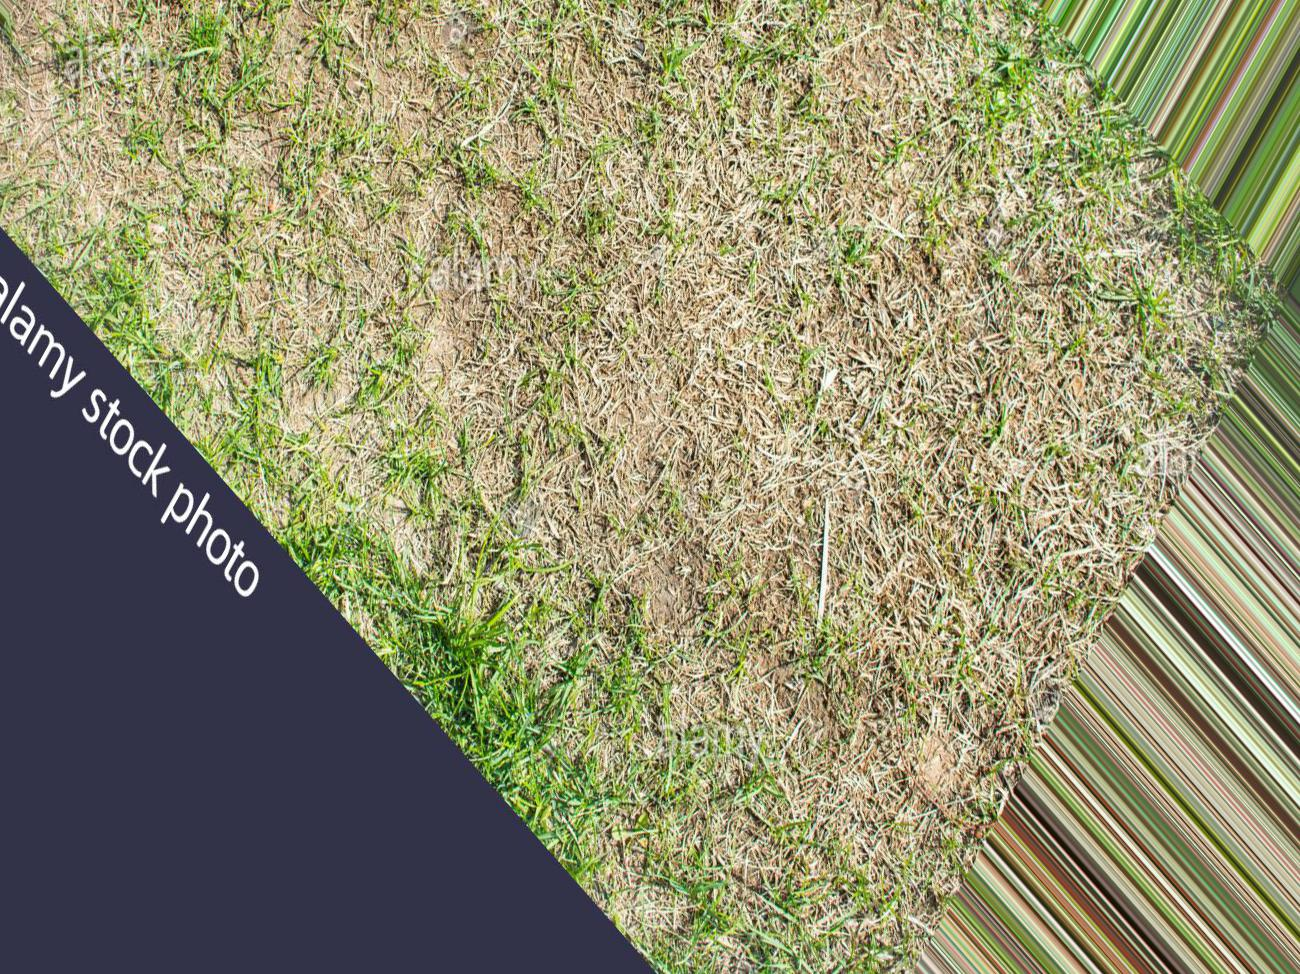patch: (164, 57, 859, 315), (443, 360, 994, 590), (574, 647, 879, 844), (923, 140, 1147, 301)
